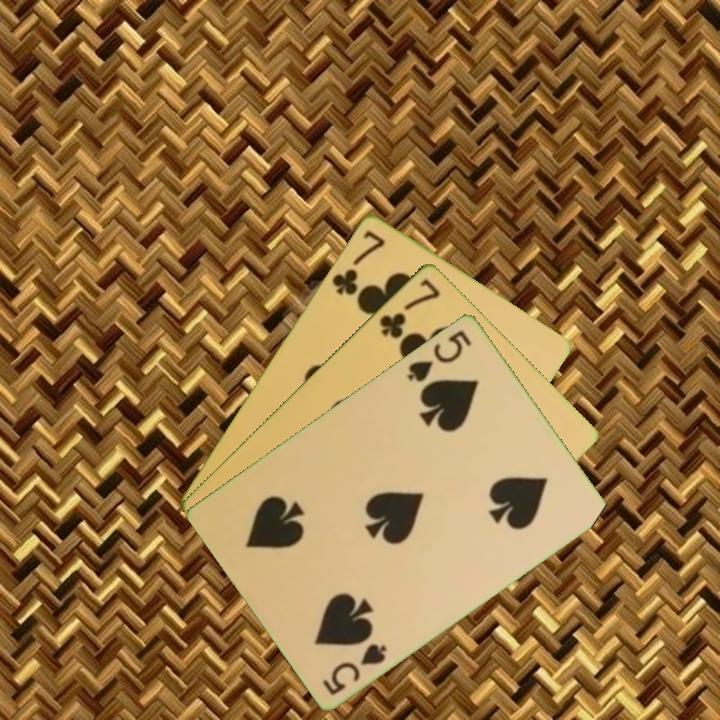5s: (403, 325, 475, 385), (319, 639, 391, 698)
7c: (376, 274, 443, 341), (328, 226, 388, 298)
